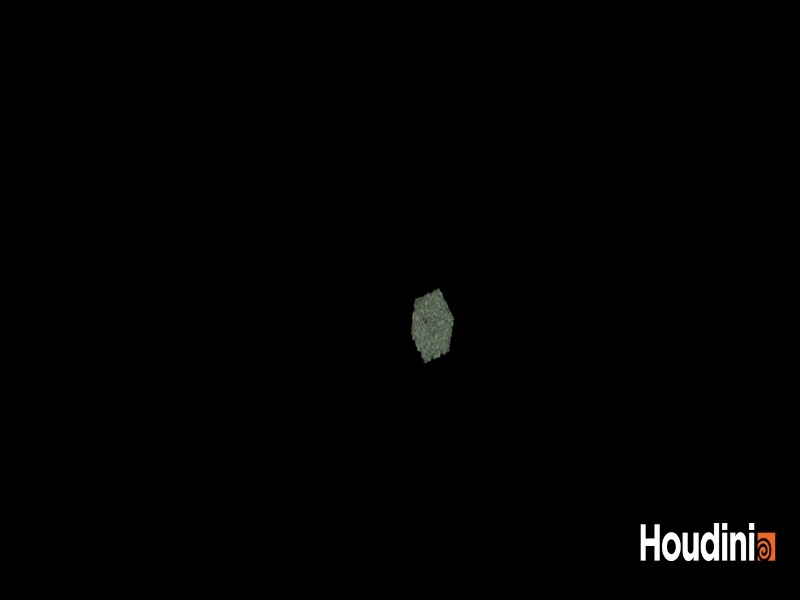waste: (408, 276, 466, 373)
